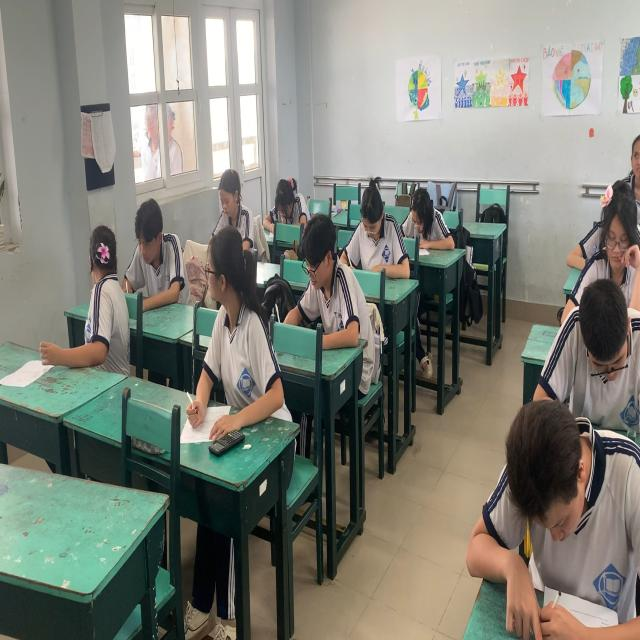cheating: (202, 226, 276, 399), (81, 223, 126, 362)
not_cheating: (492, 389, 620, 634), (562, 272, 637, 388), (297, 209, 356, 344), (353, 174, 396, 291), (593, 168, 639, 268), (126, 200, 171, 292), (406, 185, 443, 247), (268, 175, 305, 229), (212, 167, 246, 223)
